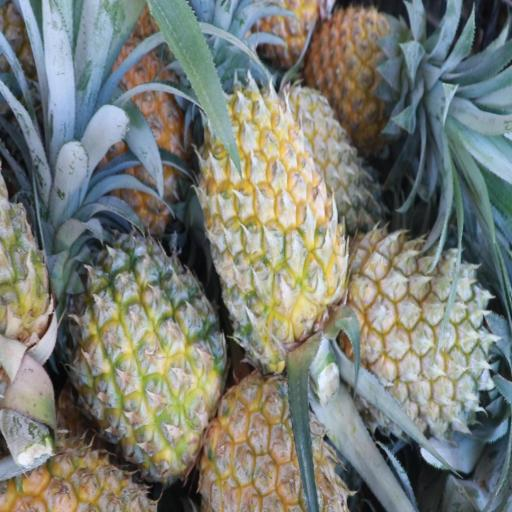------------------------------: (70, 220, 230, 488)
Pineapple - v8 v1: (197, 32, 352, 380), (336, 219, 508, 439), (308, 4, 447, 154)
